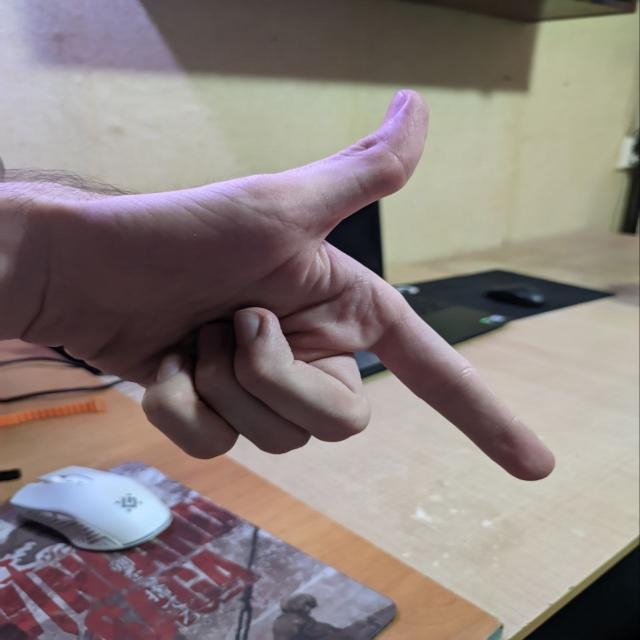g: (44, 100, 550, 482)
